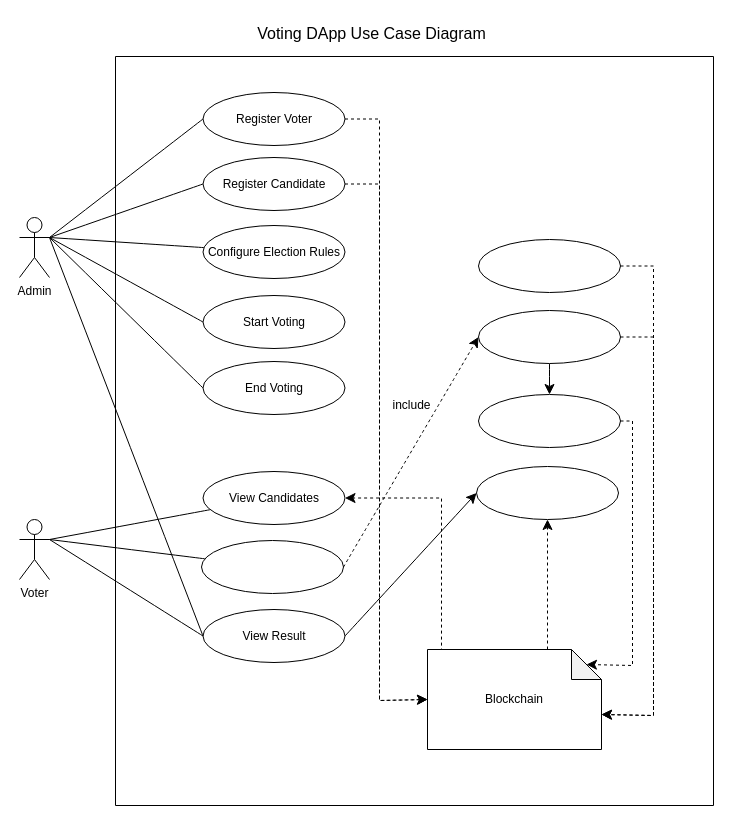
Some shapes in this 731 by 823 pixel diagram are drawn without their labels. Here are the shapes that lost their labels. From the top down, the centre of each, then its label:
At point (549, 265): "Authenticate Admin".
At point (549, 337): "Authenticate Voter".
At point (549, 421): "Validate and Store Vote".
At point (547, 493): "Display Result".
At point (272, 567): "Cast Vote".
